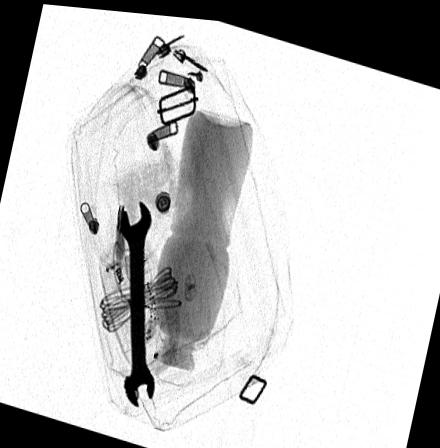Wrench: (114, 193, 157, 405)
